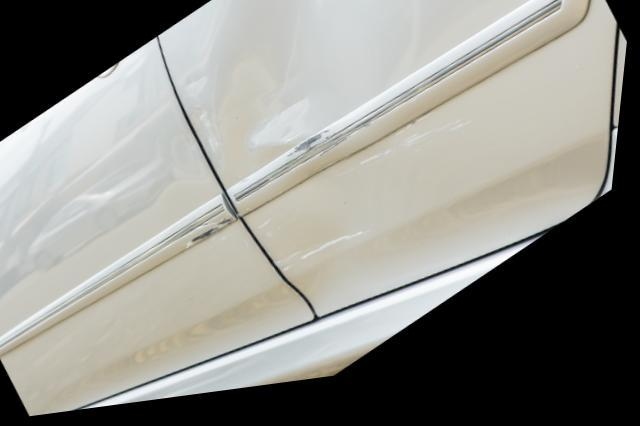dent: (214, 0, 412, 152)
scratch: (263, 123, 471, 278), (186, 225, 238, 254)
